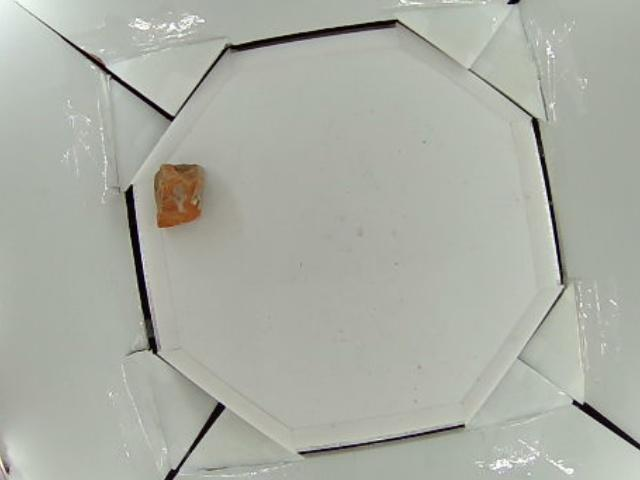Brisk: (154, 164, 206, 229)
